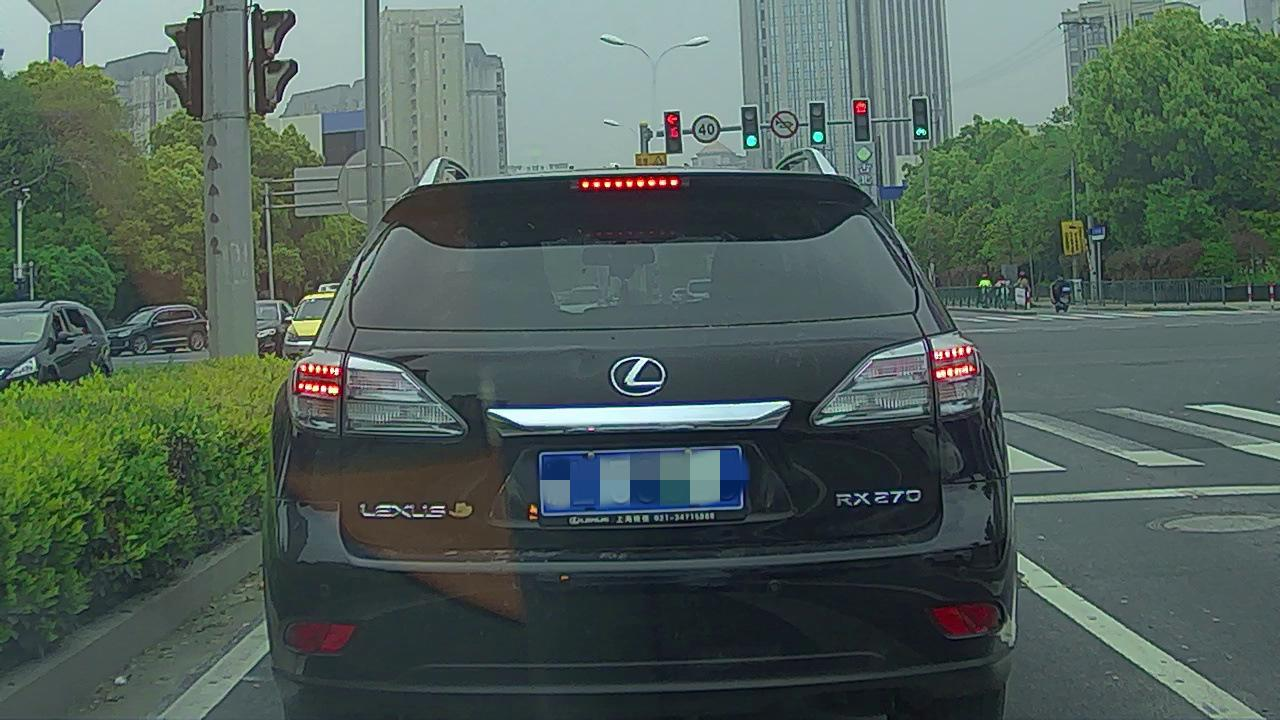traffic_light: (742, 105, 761, 150), (664, 111, 682, 154), (912, 98, 930, 141), (853, 100, 871, 142), (811, 104, 825, 142)
